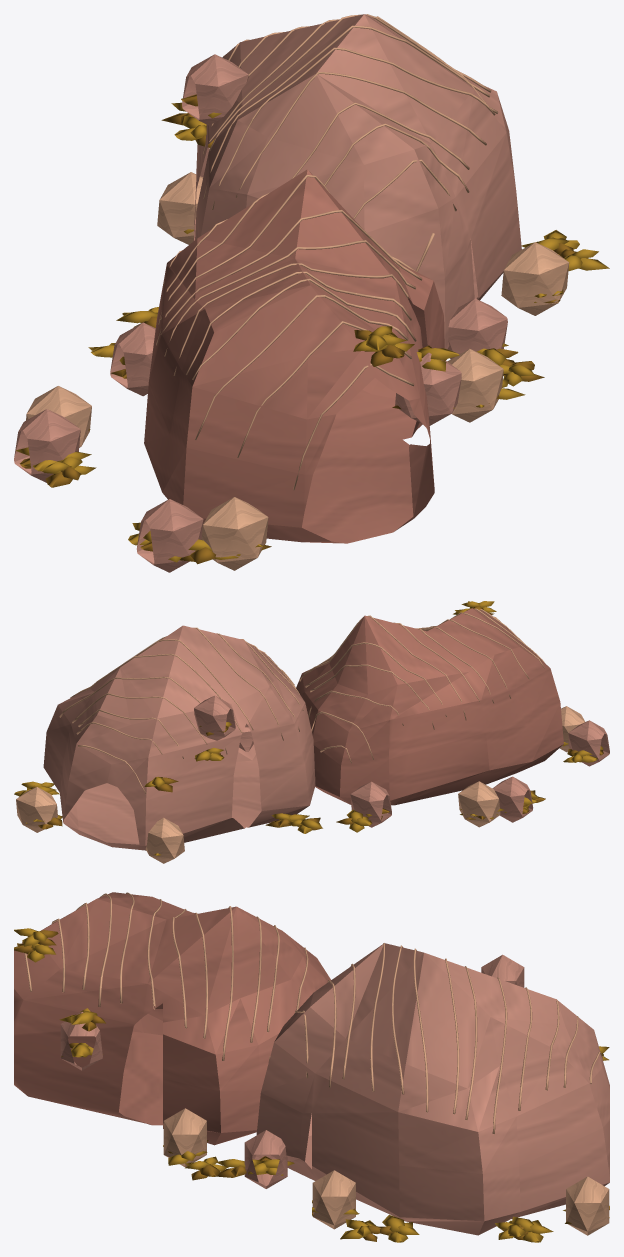
File: PilotRidgeNE_0.fbx
3 renders of one model, top to bottom at view 1: azimuth 30°, elevation 25°; view 2: azimuth 150°, elevation 25°; view 3: azimuth 270°, elevation 25°, orthographic. The views are drawn at different scales.
Visible parts, largest first — view 1: PilotRidgeNE_0__Geometry; view 2: PilotRidgeNE_0__Geometry; view 3: PilotRidgeNE_0__Geometry.
Boxes of the visible parts, x1=… form: PilotRidgeNE_0__Geometry: x1=14, y1=14, x2=609, y2=572; PilotRidgeNE_0__Geometry: x1=14, y1=601, x2=609, y2=863; PilotRidgeNE_0__Geometry: x1=14, y1=892, x2=609, y2=1242.
Size of the model in its own units: 4 by 1.72 by 4.
